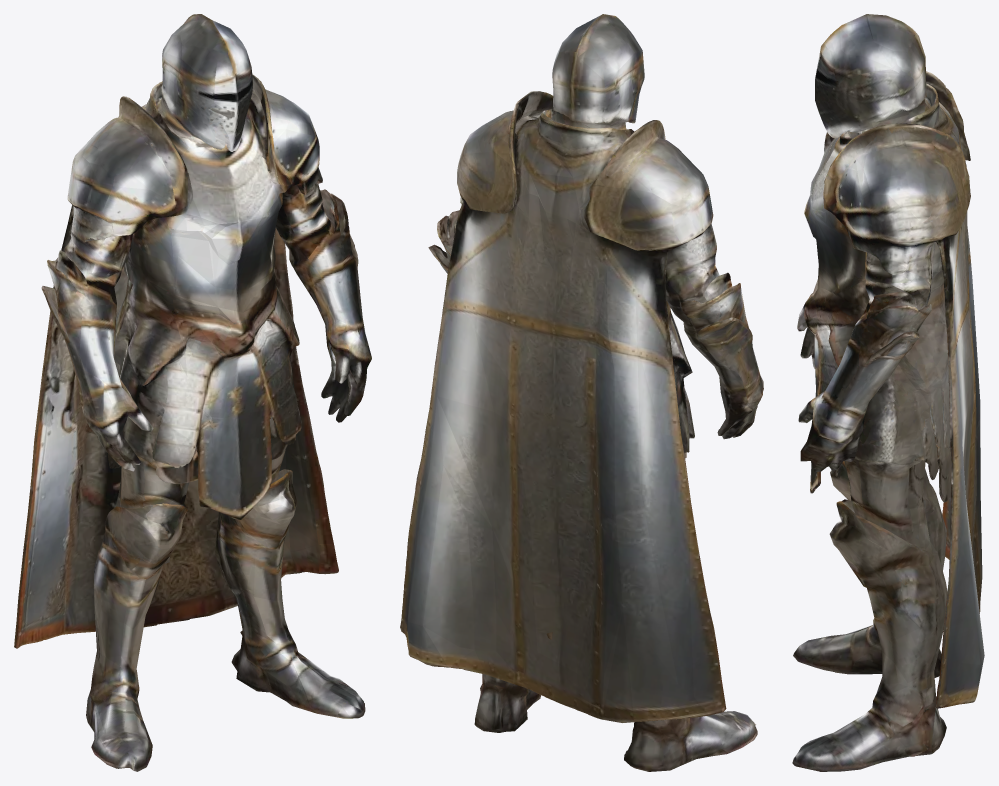
File: soldado.glb
The picture shows the model from 3 angles, left to right: view 1: azimuth 30°, elevation 25°; view 2: azimuth 150°, elevation 25°; view 3: azimuth 270°, elevation 25°; orthographic projection. The views are drawn at different scales.
Visible parts, largest first — view 1: Object_4; view 2: Object_4; view 3: Object_4.
Boxes of the visible parts, <box> form: Object_4: <box>14,14,371,771</box>; Object_4: <box>400,14,763,771</box>; Object_4: <box>792,14,984,771</box>.
Size of the model in its own units: 0.9598 by 2 by 0.4992.
1 material, 1 textured.
